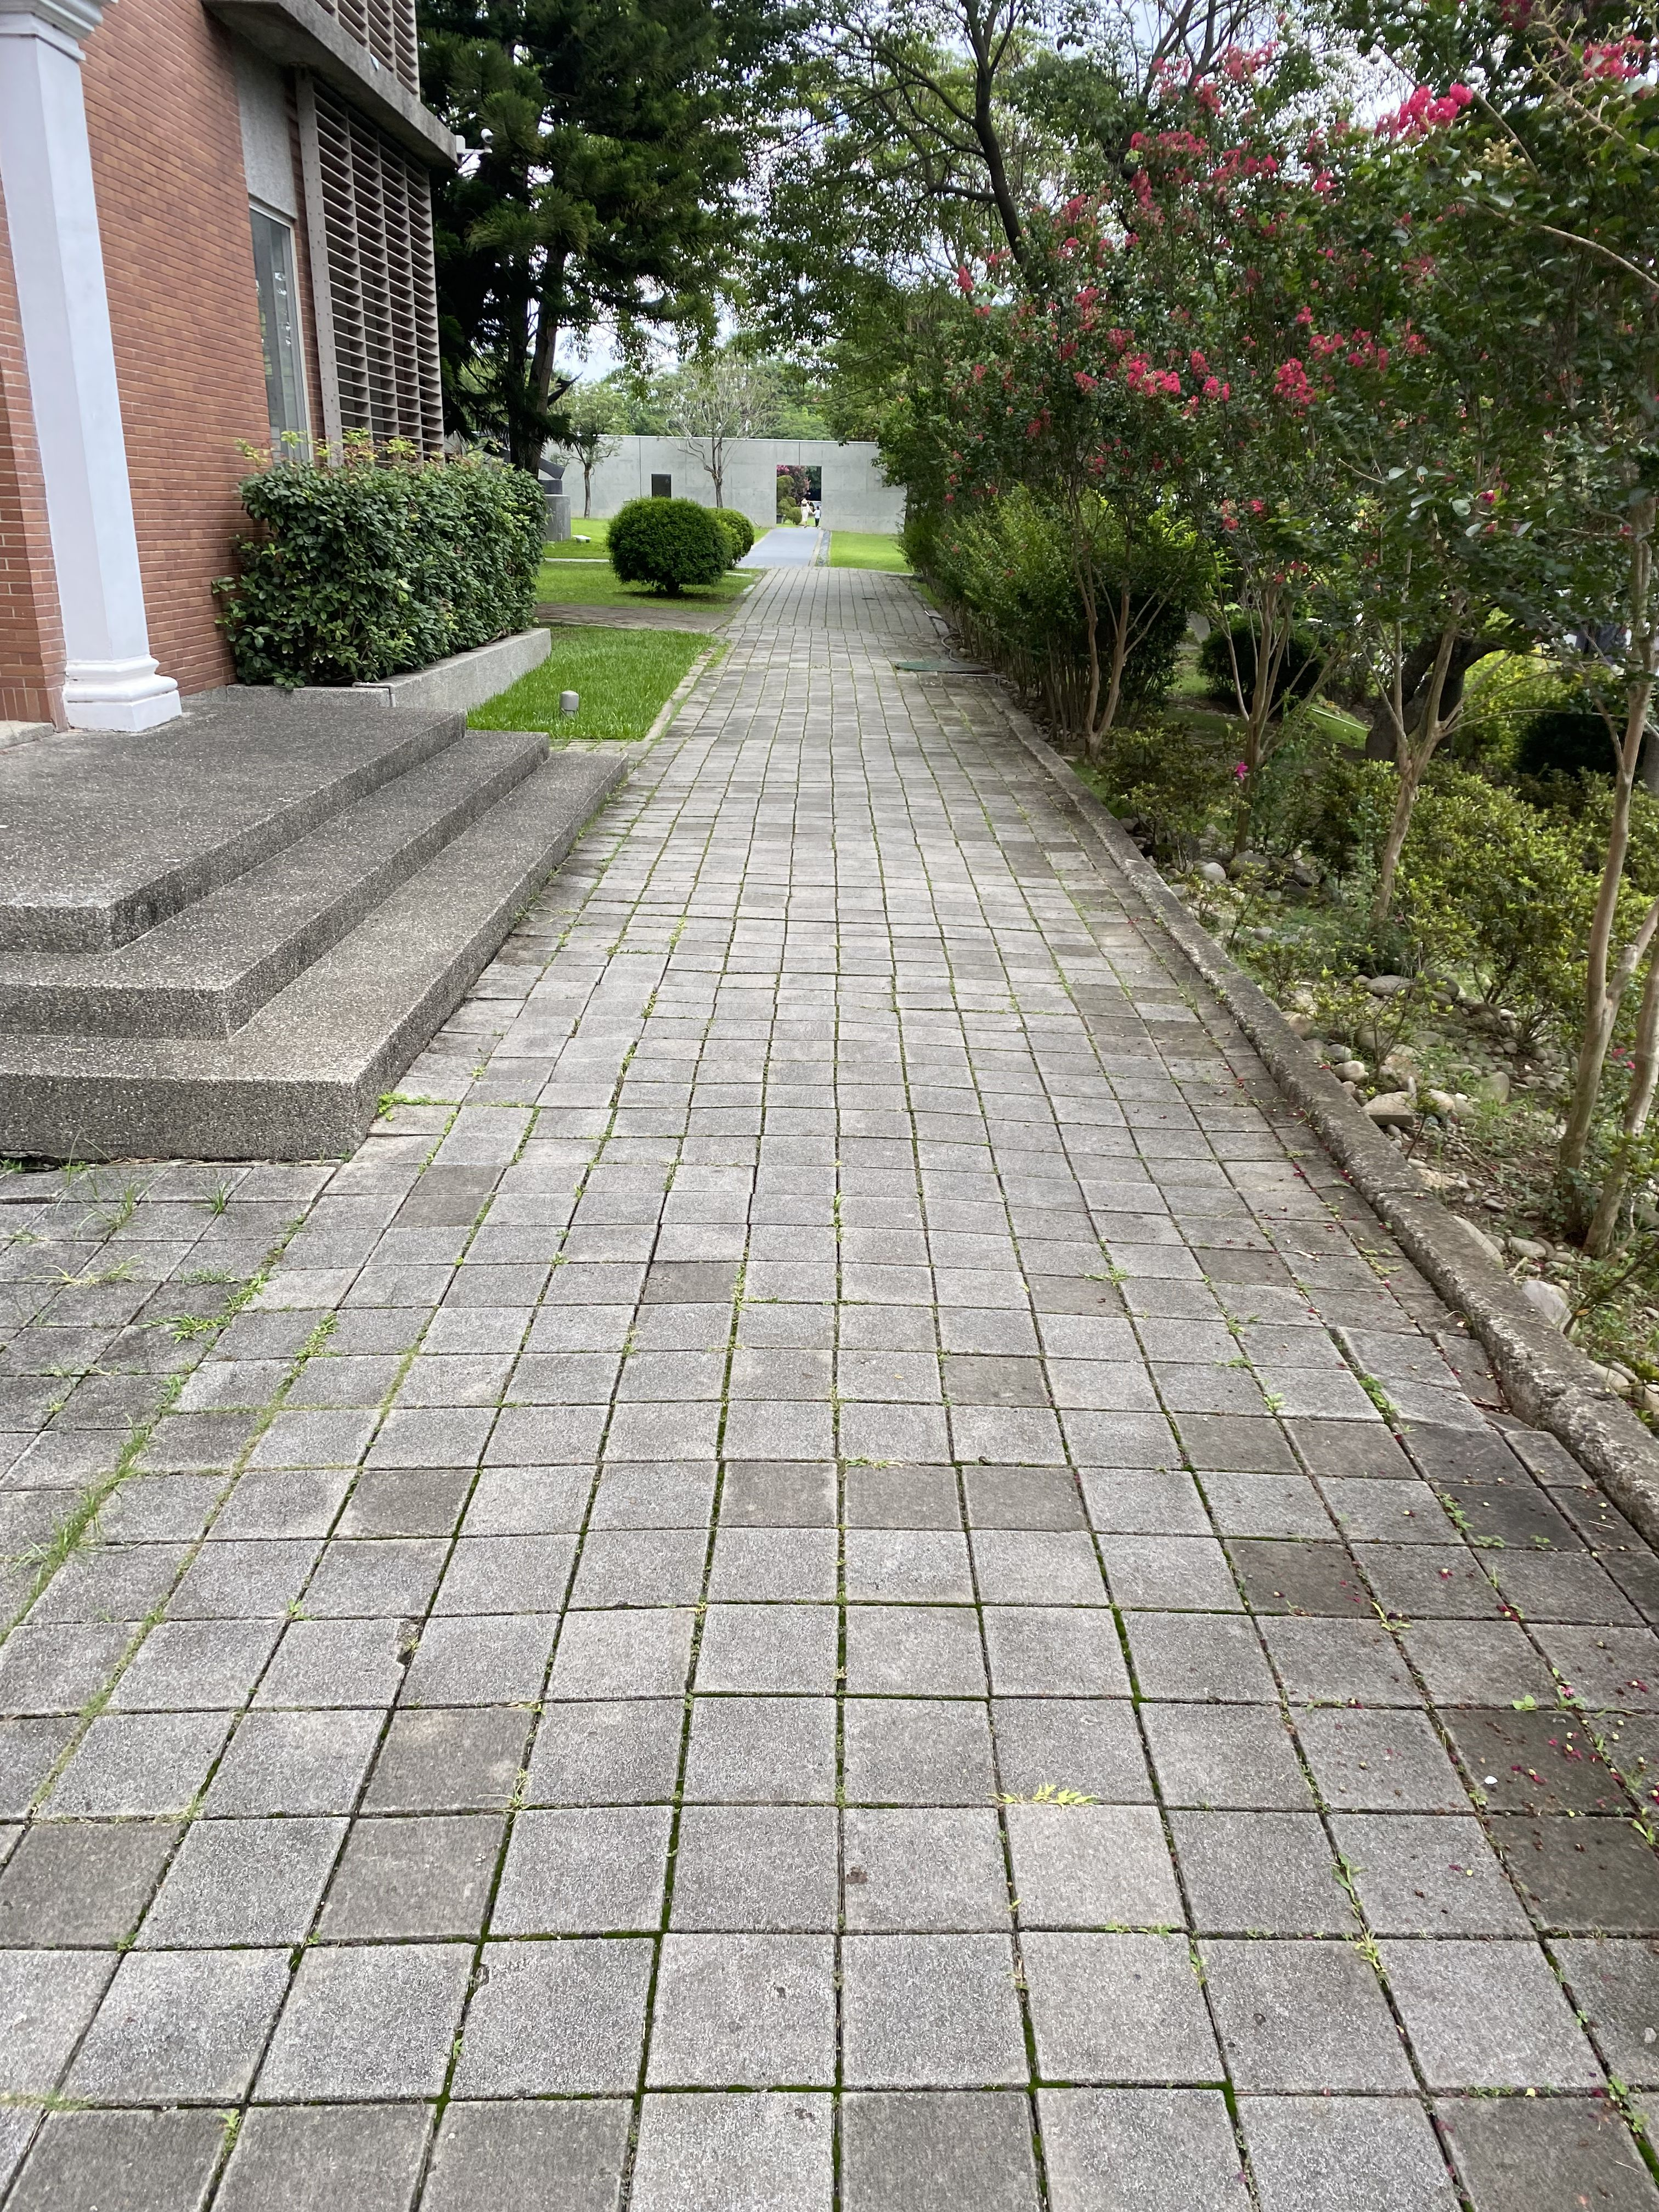0: (3, 779, 1659, 2212)
sidewalk: (626, 563, 1061, 1629)
